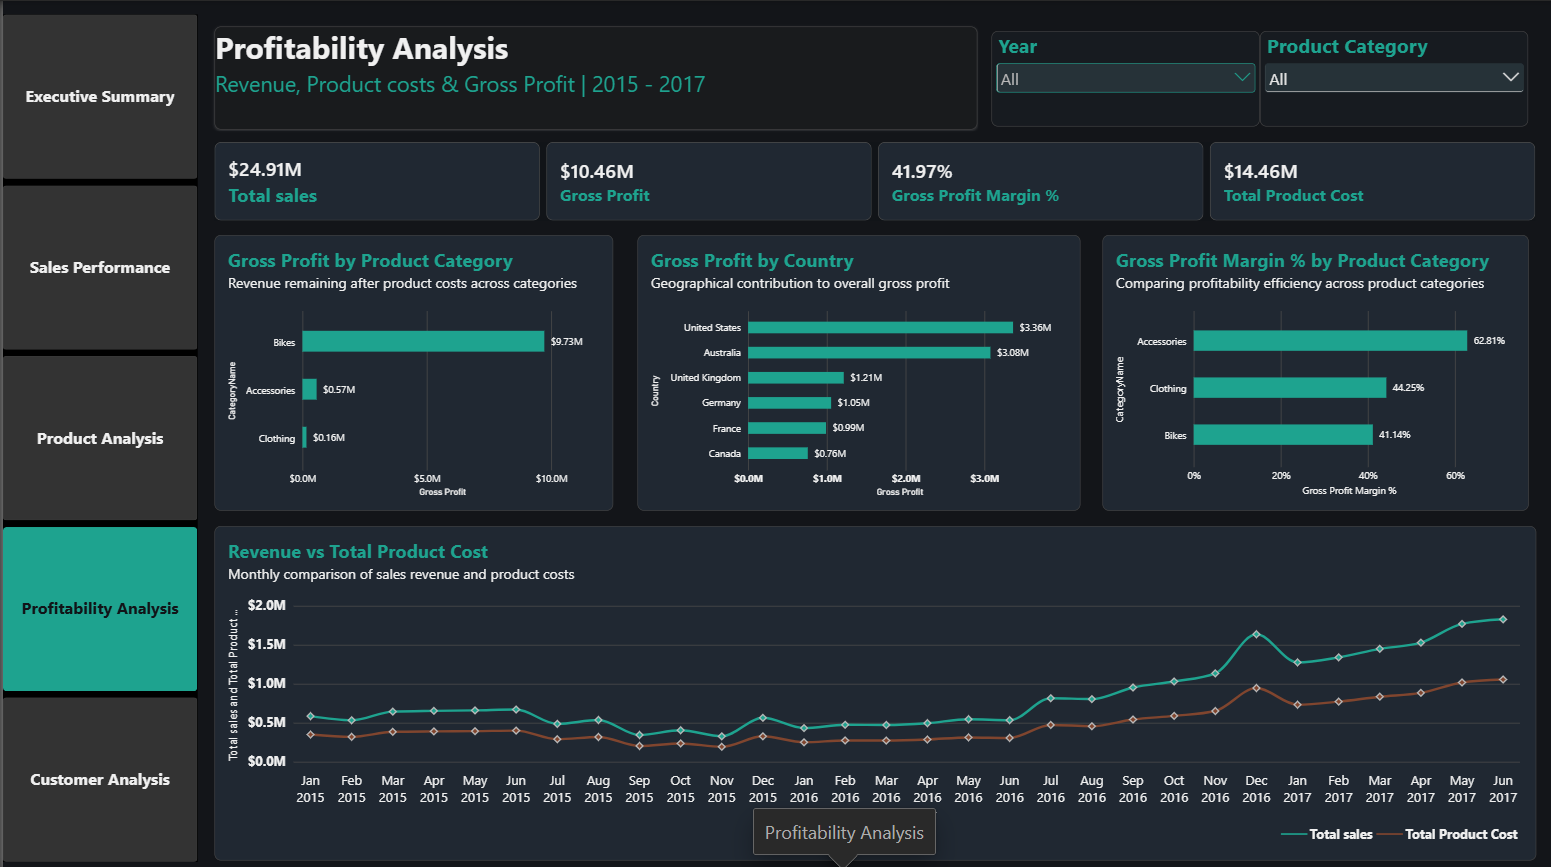

Layout of this report page (visuals, bound fields, positions):
{"tool":"powerbi","page":{"name":"Profitability Analysis","canvas":[1920,1080],"ordinal":3},"visuals":[{"type":"pageNavigator","box":[0,15.9,240.8,1047.1],"z":0},{"type":"textbox","title":"Profitability Analysis","box":[261.2,31.8,942.6,127.2],"z":1000},{"type":"cardVisual","fields":{"Data":["Sales.Total sales","Sales.Gross Profit","Sales.Gross Profit Margin %","Sales.Total Product Cost"]},"box":[261.2,174.9,1633.1,97.7],"z":2000},{"type":"clusteredBarChart","title":"Gross Profit by Product Category","fields":{"Category":["Product Categories.CategoryName"],"Y":["Sales.Gross Profit"]},"box":[261.2,288.5,492.9,340.7],"z":3000},{"type":"clusteredBarChart","title":"Gross Profit by Country","fields":{"Category":["Territories.Country"],"Y":["Sales.Gross Profit"]},"box":[783.6,288.5,547.4,340.7],"z":4000},{"type":"lineChart","title":"Revenue vs Total Product Cost","fields":{"Category":["Calender.Month-Year"],"Y":["Sales.Total sales","Sales.Total Product Cost"]},"box":[261.2,649.6,1633.1,413.4],"z":5000},{"type":"clusteredBarChart","title":"Gross Profit Margin % by Product Category","fields":{"Category":["Product Categories.CategoryName"],"Y":["Sales.Gross Profit Margin %"]},"box":[1358.2,288.5,526.9,340.7],"z":6000},{"type":"slicer","fields":{"Values":["Calender.Year"]},"box":[1222,36.3,331.6,118.1],"z":7000},{"type":"slicer","title":"Product Category","fields":{"Values":["Product Categories.CategoryName"]},"box":[1553.6,36.3,331.6,118.1],"z":8000}]}

Visuals, with their boxes in screenshot pixels (x1, y1, x2, y2), scaled from the page's 1920x1080 canvas onto the 1551x867 screenshot:
pageNavigator: {"x1": 0, "y1": 13, "x2": 195, "y2": 853}
"Profitability Analysis" textbox: {"x1": 211, "y1": 26, "x2": 972, "y2": 128}
cardVisual - Sales.Total sales x Sales.Gross Profit: {"x1": 211, "y1": 140, "x2": 1530, "y2": 219}
"Gross Profit by Product Category" clusteredBarChart: {"x1": 211, "y1": 232, "x2": 609, "y2": 505}
"Gross Profit by Country" clusteredBarChart: {"x1": 633, "y1": 232, "x2": 1075, "y2": 505}
"Revenue vs Total Product Cost" lineChart: {"x1": 211, "y1": 521, "x2": 1530, "y2": 853}
"Gross Profit Margin % by Product Category" clusteredBarChart: {"x1": 1097, "y1": 232, "x2": 1523, "y2": 505}
slicer - Calender.Year: {"x1": 987, "y1": 29, "x2": 1255, "y2": 124}
"Product Category" slicer: {"x1": 1255, "y1": 29, "x2": 1523, "y2": 124}
